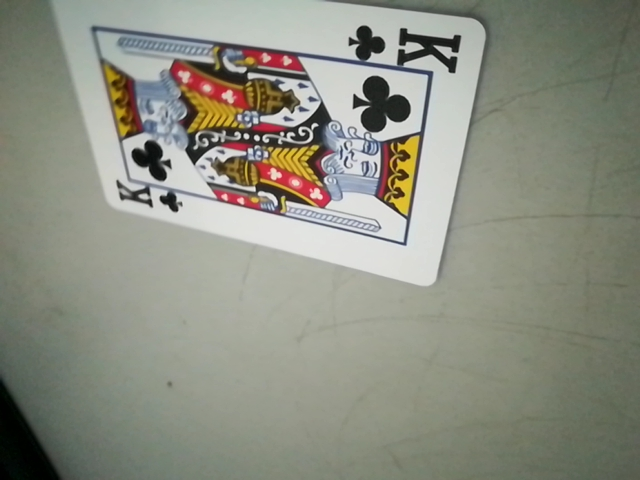mh k: (345, 19, 465, 73), (110, 180, 181, 218)
